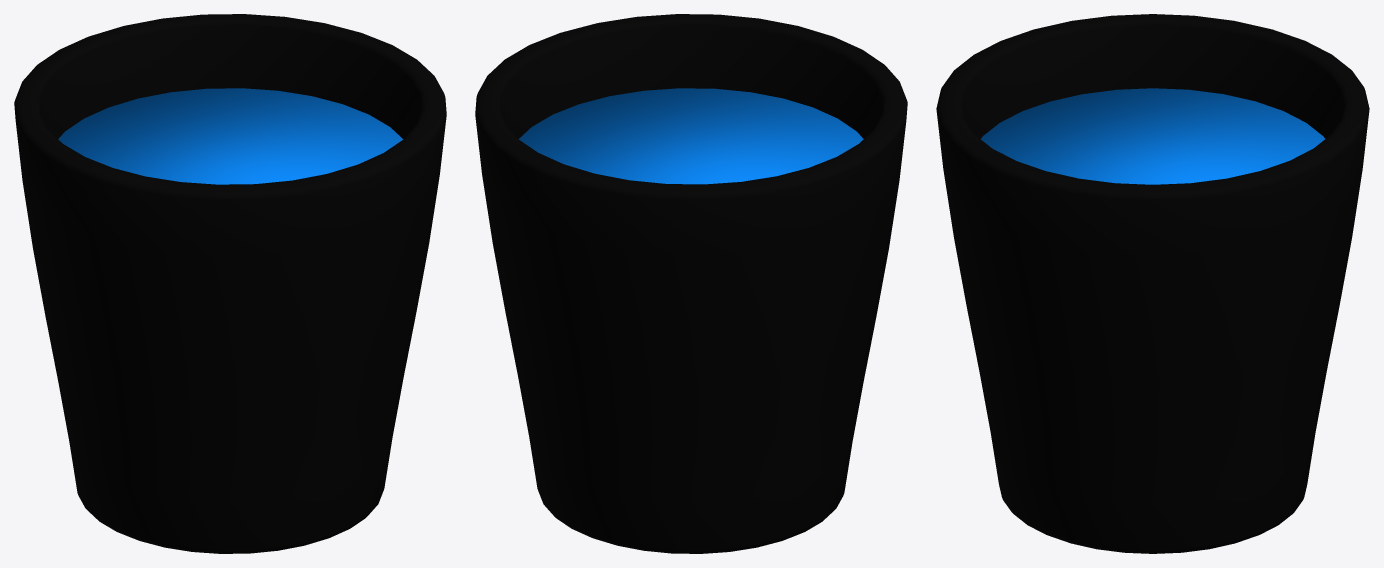
File: glassCup.fbx
The picture shows the model from 3 angles, left to right: view 1: azimuth 30°, elevation 25°; view 2: azimuth 150°, elevation 25°; view 3: azimuth 270°, elevation 25°; orthographic projection.
Parts seen in each view (by area): view 1: Cup, water; view 2: Cup, water; view 3: Cup, water.
Boxes of the visible parts, x1=… form: Cup: x1=14, y1=14, x2=446, y2=553; water: x1=58, y1=88, x2=403, y2=184; Cup: x1=475, y1=14, x2=907, y2=553; water: x1=518, y1=88, x2=863, y2=184; Cup: x1=936, y1=14, x2=1369, y2=553; water: x1=981, y1=88, x2=1324, y2=184.
Size of the model in its own units: 11.99 by 11.91 by 11.99.
